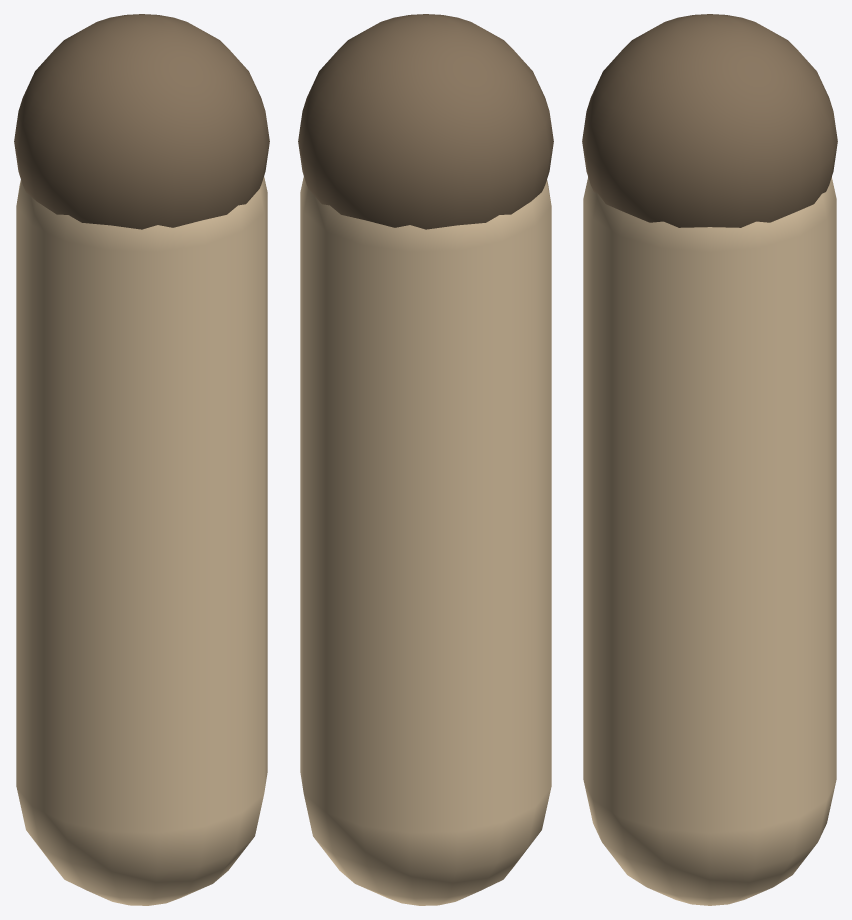
File: doll_LowerArm_R.glb
The picture shows the model from 3 angles, left to right: view 1: azimuth 30°, elevation 25°; view 2: azimuth 150°, elevation 25°; view 3: azimuth 270°, elevation 25°; orthographic projection.
Visible parts, largest first — view 1: LowerArm_R; view 2: LowerArm_R; view 3: LowerArm_R.
Boxes of the visible parts, x1=… form: LowerArm_R: x1=14, y1=14, x2=269, y2=905; LowerArm_R: x1=298, y1=14, x2=553, y2=905; LowerArm_R: x1=582, y1=14, x2=837, y2=905.
Bounding box in the file's own units: 0.1 × 0.3748 × 0.1.
